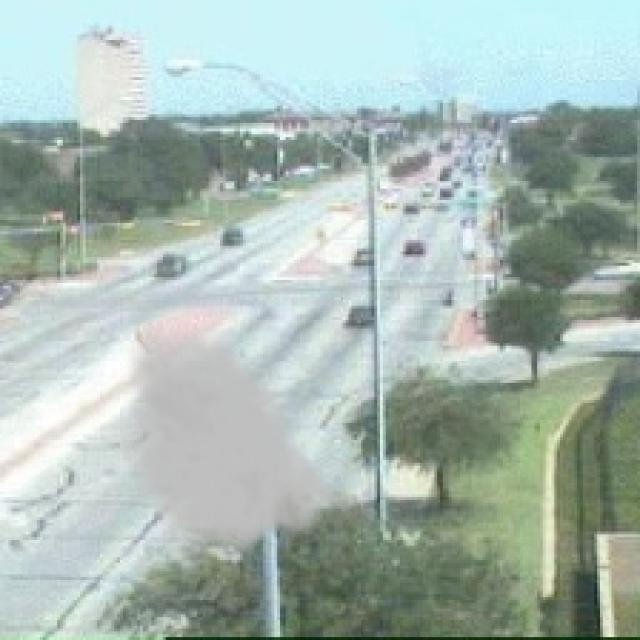smoke: (115, 311, 372, 566)
